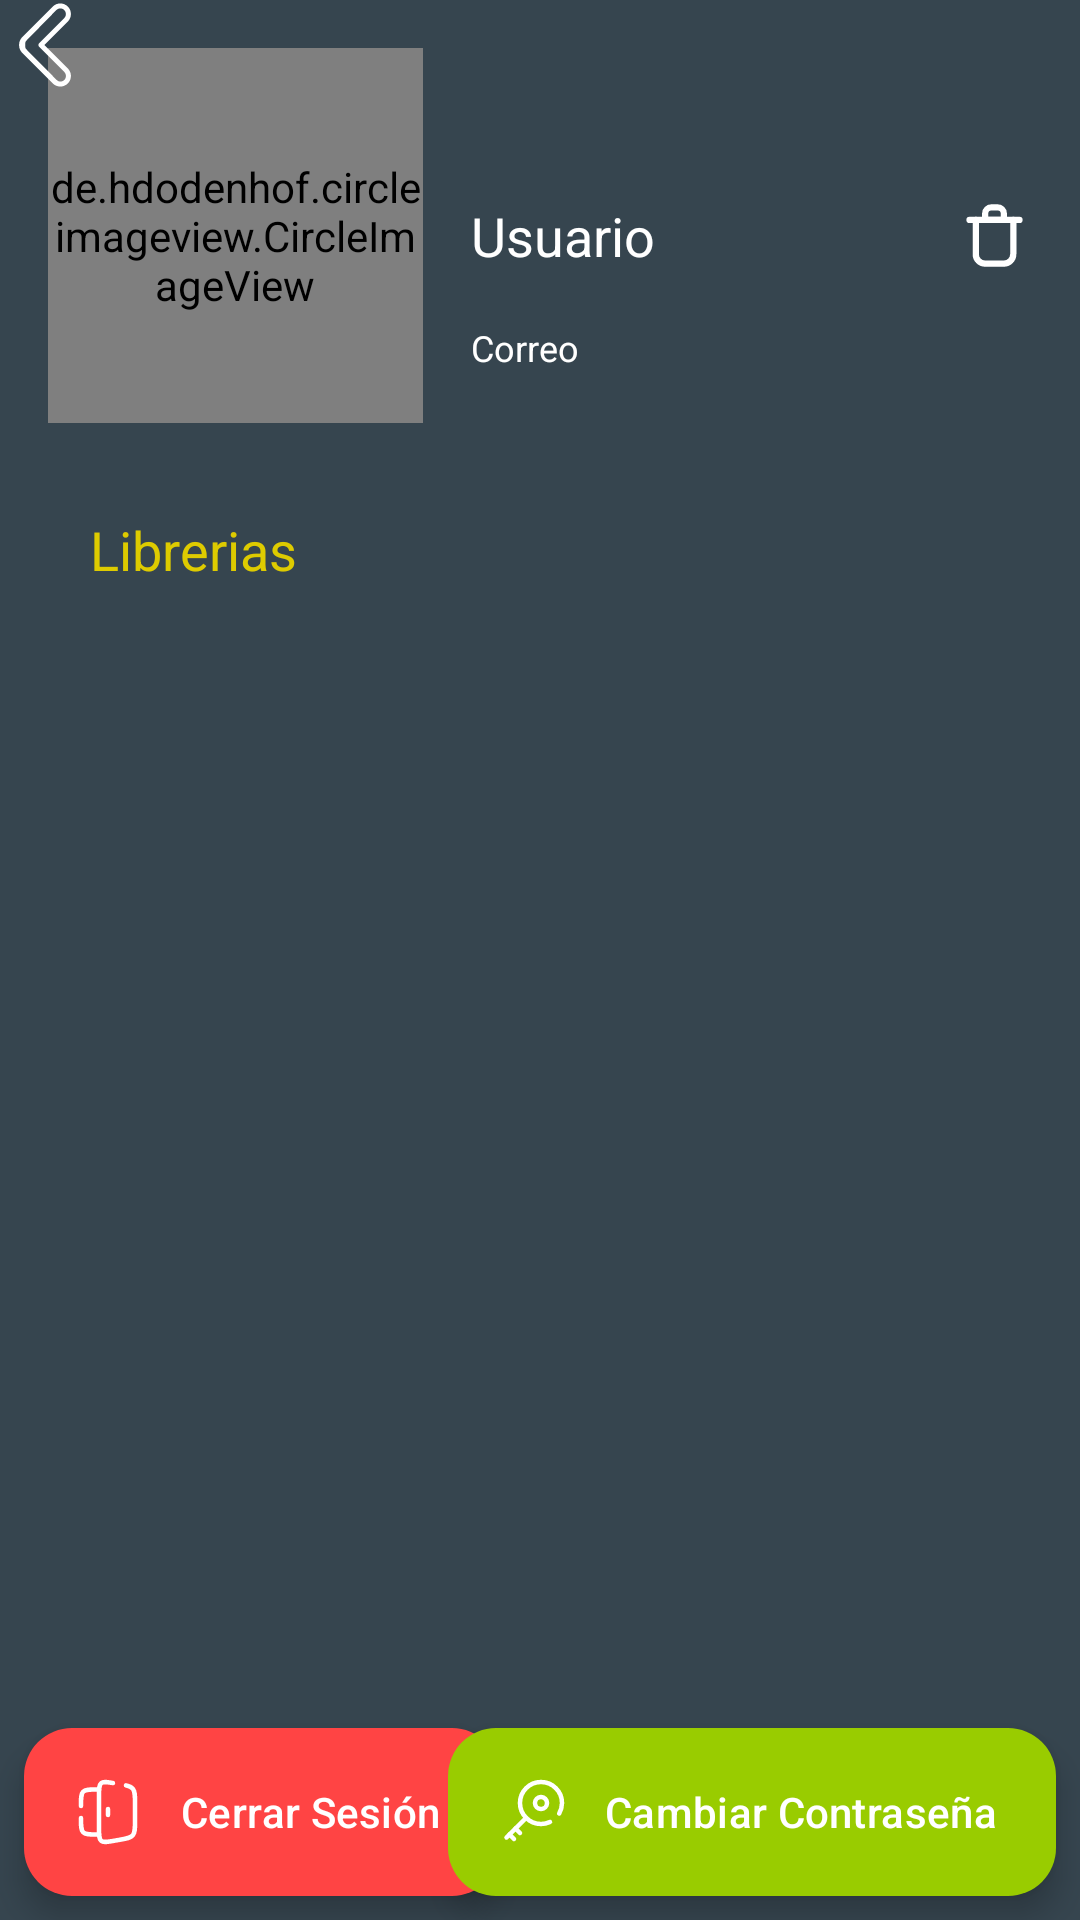

Screen size 1080px x 1920px. Icon name, then its center in pixels as [x,y]:
back: [45,45]
delete: [994,235]
